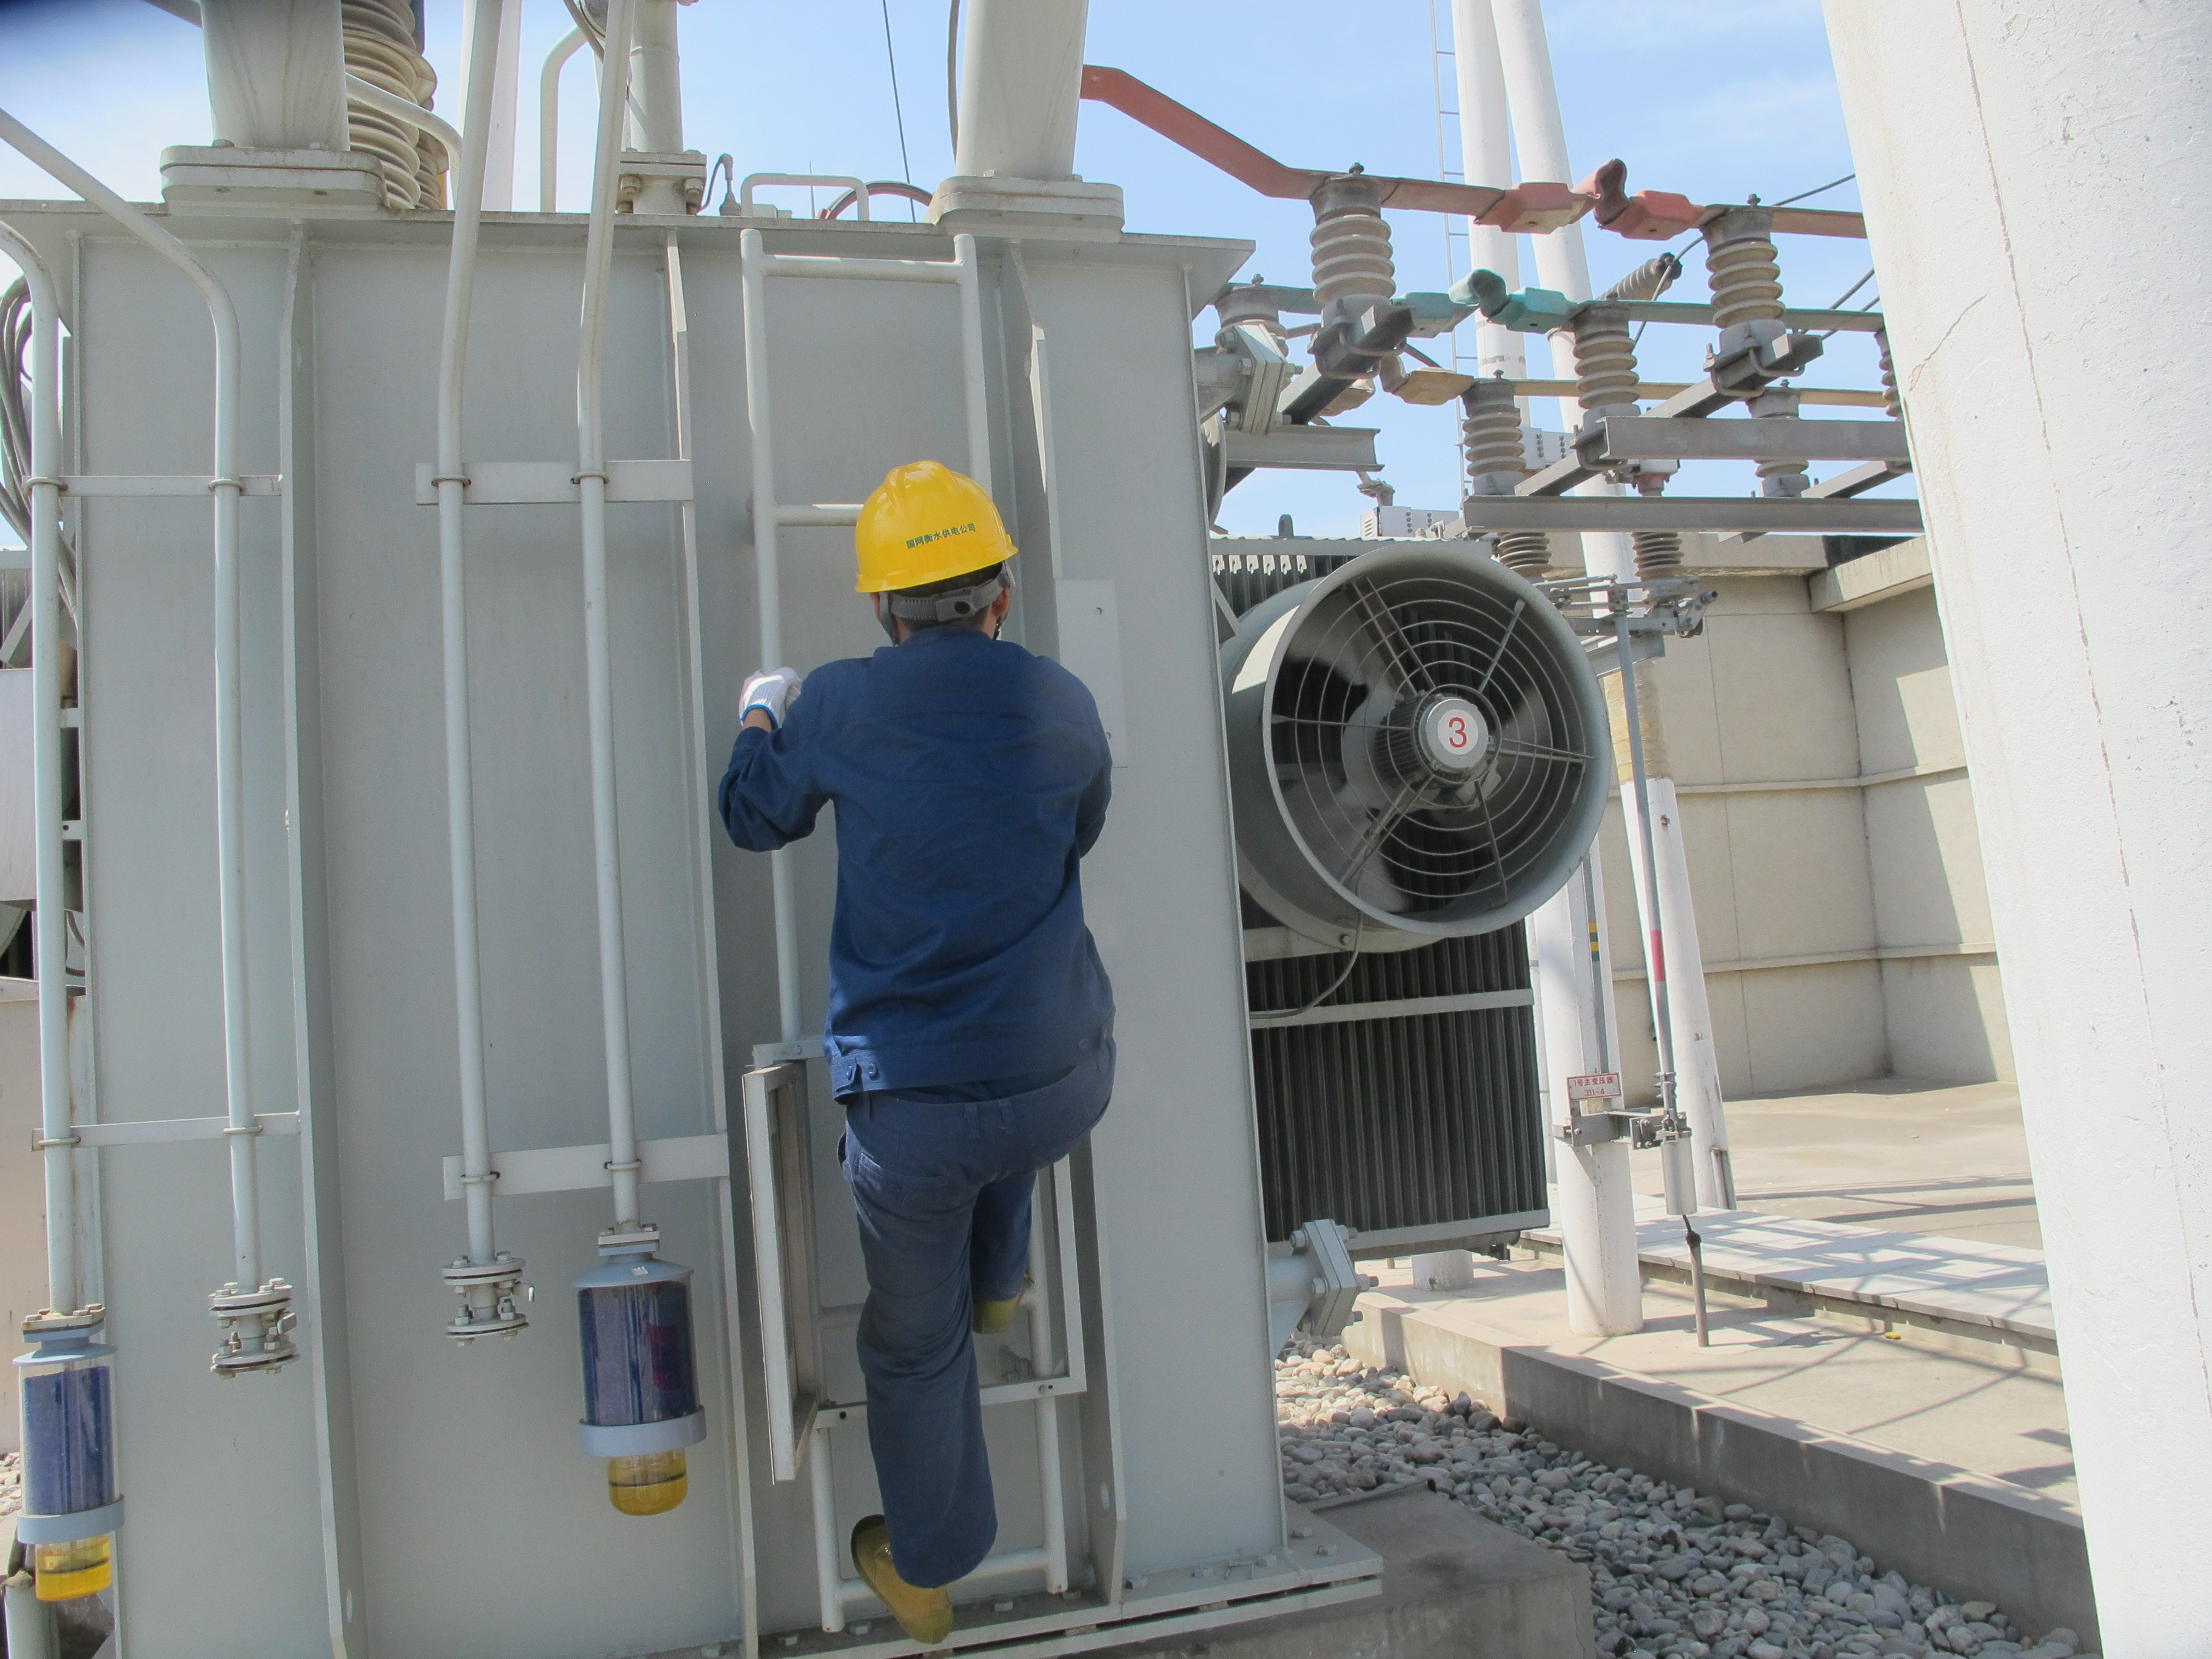hat: (840, 450, 1029, 652)
